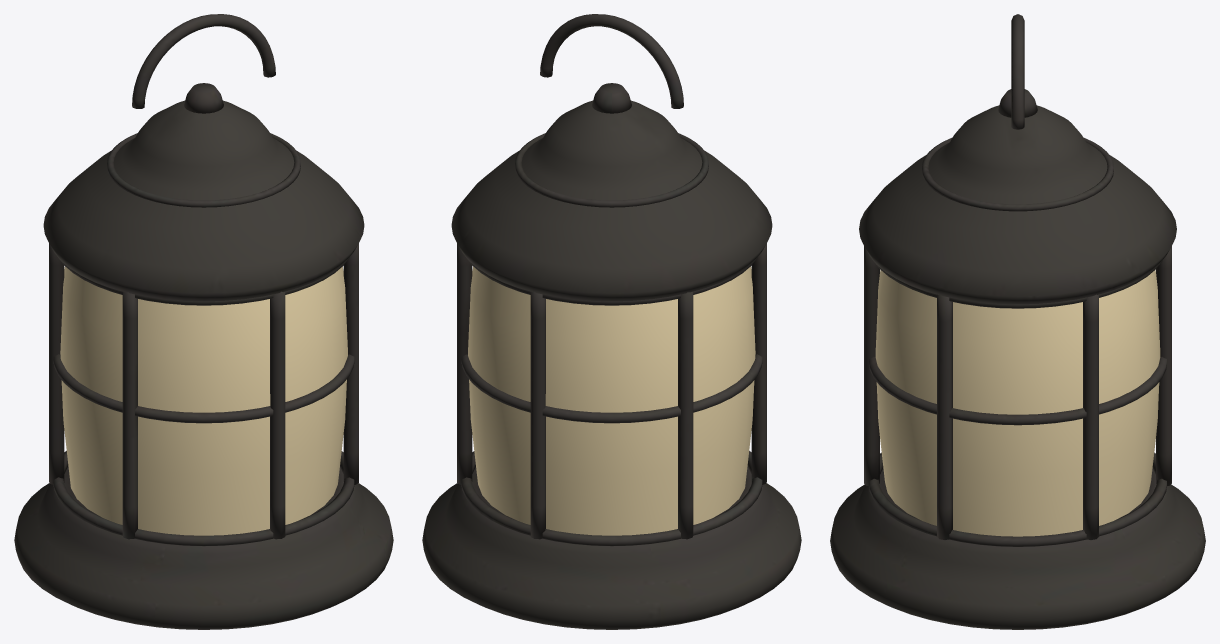
File: tool_lantern.glb
3 renders of one model, left to right at view 1: azimuth 30°, elevation 25°; view 2: azimuth 150°, elevation 25°; view 3: azimuth 270°, elevation 25°, orthographic.
Parts seen in each view (by area): view 1: lantern-body, lantern-glass; view 2: lantern-body, lantern-glass; view 3: lantern-body, lantern-glass.
Boxes of the visible parts, x1,y1,x2,y2 form: lantern-body: [14, 14, 393, 629]; lantern-glass: [60, 266, 347, 535]; lantern-body: [422, 14, 801, 629]; lantern-glass: [468, 266, 755, 535]; lantern-body: [830, 14, 1205, 629]; lantern-glass: [875, 270, 1160, 536].
Size of what is drawn, in the model's own units: 0.26 by 0.4075 by 0.26.
3 materials, 1 textured.
